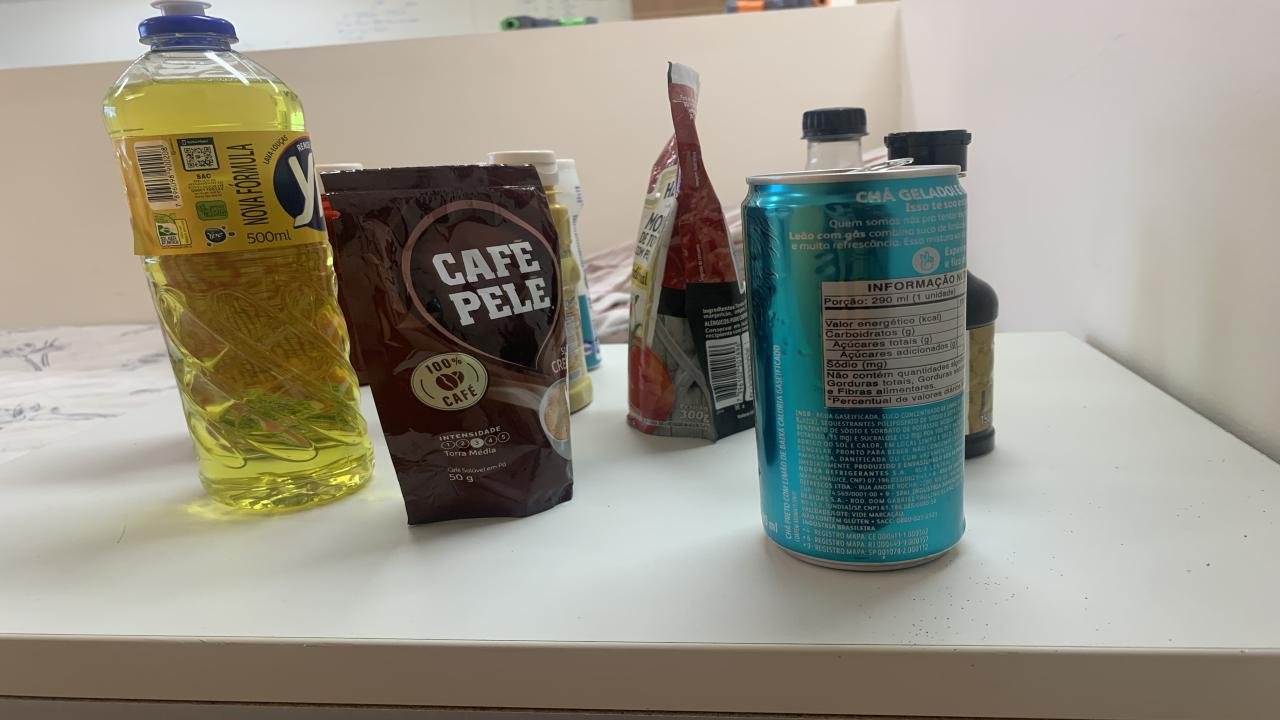Cleaner-Cleanup_Items: (555, 159, 600, 369)
Coffee-Pantry_Items: (322, 165, 572, 525)
Detergent-Cleanup_Items: (105, 0, 372, 510)
English_Sauce-Pantry_Items: (965, 272, 1000, 458), (885, 129, 970, 176)
Mustard-Pantry_Items: (545, 188, 592, 412)
Soda-Drinks: (802, 107, 868, 171)
Tea-Drinks: (742, 165, 968, 570)
Tomato_Sauce-Pantry_Items: (628, 64, 755, 441)
